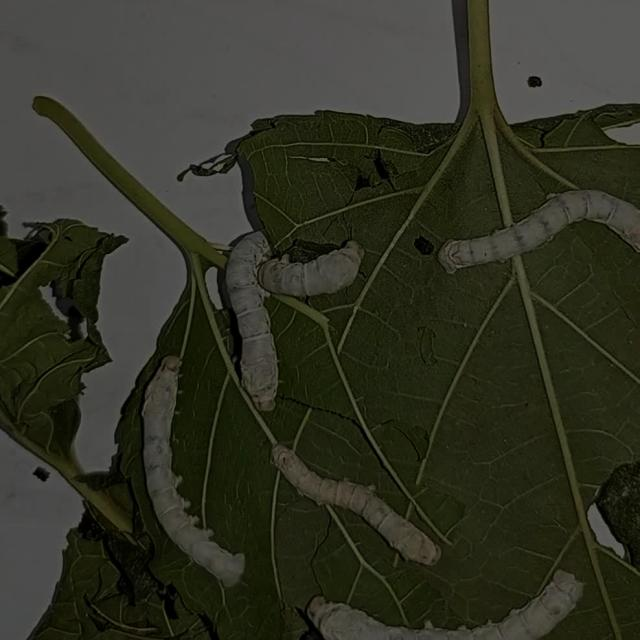Healthy: (196, 196, 375, 419), (238, 429, 476, 572), (124, 331, 246, 601), (424, 170, 640, 286), (297, 583, 613, 639), (622, 557, 627, 585)
